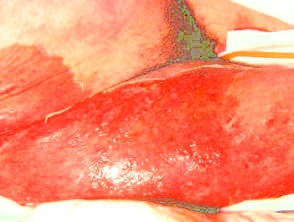SJS-TEN: (0, 39, 294, 213)
